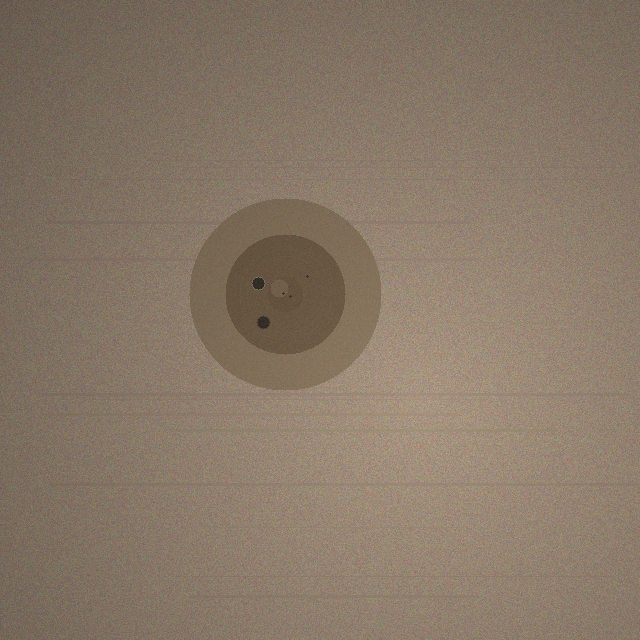shrinkage: (189, 198, 381, 390)
